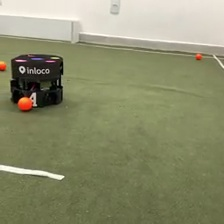ball: (16, 95, 34, 112), (1, 60, 7, 72), (194, 52, 202, 60)
goal: (1, 15, 81, 46)
robot: (9, 52, 66, 109)
